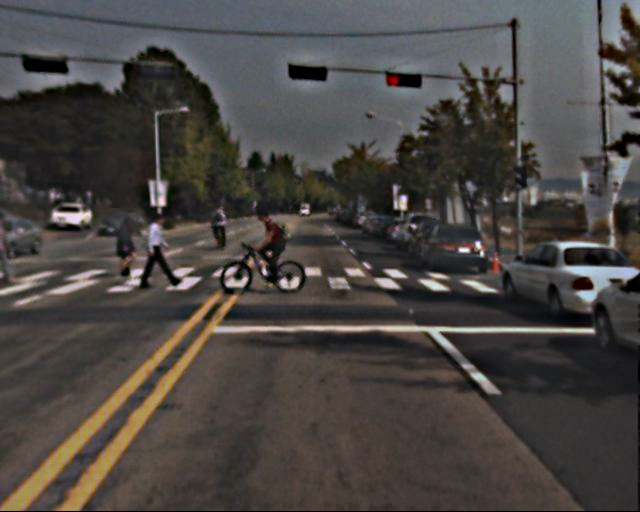person: (254, 209, 290, 283), (146, 205, 178, 286), (115, 211, 145, 276), (211, 203, 229, 248)
